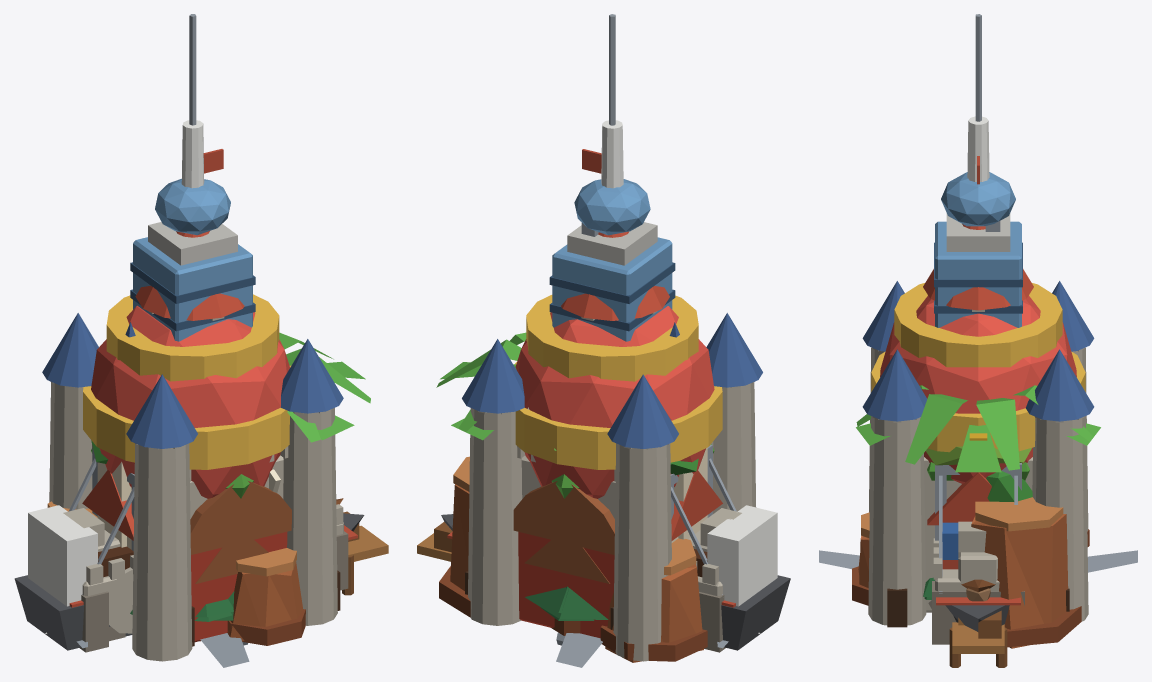
The model's file is assets.glb.
3 renders of one model, left to right at view 1: azimuth 30°, elevation 25°; view 2: azimuth 150°, elevation 25°; view 3: azimuth 270°, elevation 25°, orthographic. The views are drawn at different scales.
Parts seen in each view (by area): view 1: castle, balloon, tower_glass_a, container_ship, barn, rock_mesa, landmark_spire, bridge_stone, temple, house_b, tree_palm, dock (+4 smaller); view 2: castle, balloon, tower_glass_a, barn, rock_mesa, container_ship, landmark_spire, temple, house_b, bridge_stone, airplane, bridge_modern (+5 smaller); view 3: castle, balloon, rock_mesa, tower_glass_a, landmark_spire, tree_palm, container_ship, dock, tree_palm_lod, bridge_stone, wall_segment, temple (+4 smaller).
Boxes of the visible parts, <box> form: castle: <box>42,149,343,661</box>; balloon: <box>83,294,291,498</box>; tower_glass_a: <box>130,222,255,341</box>; container_ship: <box>14,505,364,650</box>; barn: <box>190,481,291,642</box>; rock_mesa: <box>47,501,305,645</box>; landmark_spire: <box>155,14,230,235</box>; bridge_stone: <box>79,504,348,652</box>; temple: <box>82,322,135,549</box>; house_b: <box>195,540,268,583</box>; tree_palm: <box>279,332,370,442</box>; dock: <box>342,511,388,595</box>; castle: <box>462,149,762,661</box>; balloon: <box>515,295,722,498</box>; tower_glass_a: <box>549,222,675,341</box>; barn: <box>513,481,614,638</box>; rock_mesa: <box>439,456,707,662</box>; container_ship: <box>441,505,790,650</box>; landmark_spire: <box>574,14,650,235</box>; temple: <box>669,322,722,542</box>; house_b: <box>524,540,609,583</box>; bridge_stone: <box>696,561,725,652</box>; airplane: <box>556,632,760,667</box>; bridge_modern: <box>670,444,736,595</box>; castle: <box>862,156,1094,627</box>; balloon: <box>871,283,1085,483</box>; rock_mesa: <box>852,497,1089,648</box>; tower_glass_a: <box>934,213,1022,327</box>; landmark_spire: <box>941,14,1015,226</box>; tree_palm: <box>856,385,1093,470</box>; container_ship: <box>936,522,1020,631</box>; dock: <box>949,610,1007,667</box>; tree_palm_lod: <box>856,421,1100,472</box>; bridge_stone: <box>932,538,1024,644</box>; wall_segment: <box>958,521,997,591</box>; temple: <box>927,472,991,525</box>.
Size of the model in its own units: 1.3 by 2.23 by 1.1.
